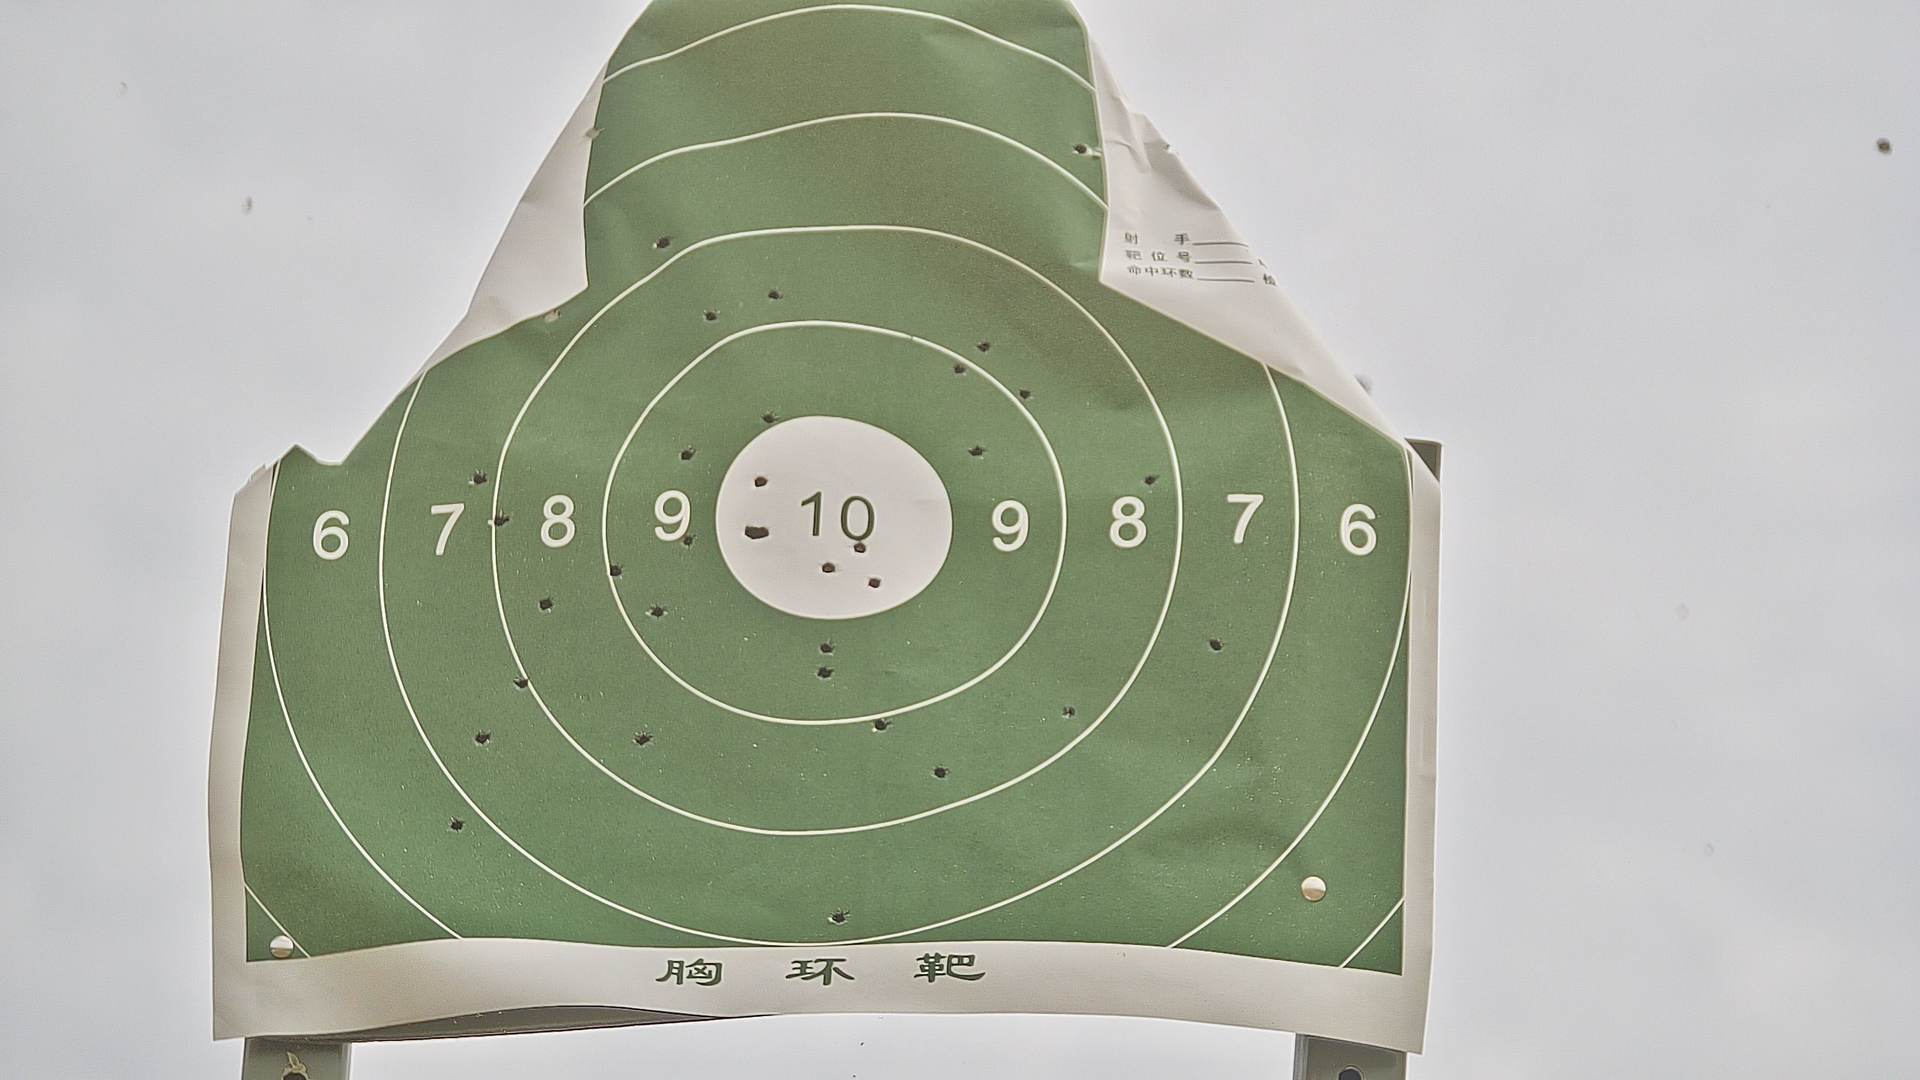hole: (491, 512, 510, 527), (649, 603, 667, 618), (472, 473, 488, 489), (475, 731, 491, 746), (819, 641, 835, 657), (636, 731, 650, 748), (873, 717, 889, 732), (761, 411, 778, 425), (450, 819, 464, 833), (538, 597, 554, 611), (608, 564, 624, 578), (757, 526, 770, 541), (852, 541, 866, 554), (934, 765, 947, 779), (703, 310, 719, 322), (976, 342, 992, 353), (952, 363, 968, 375), (514, 676, 530, 688), (541, 313, 560, 322), (683, 531, 694, 549), (680, 448, 694, 462), (833, 911, 847, 924), (1063, 705, 1076, 719), (1209, 638, 1222, 651), (753, 475, 767, 487), (744, 525, 756, 539), (866, 576, 881, 588), (655, 237, 671, 248), (818, 666, 833, 676), (822, 562, 835, 574), (589, 128, 604, 138), (767, 290, 782, 301), (969, 447, 984, 458), (1075, 144, 1087, 156), (1145, 473, 1156, 484), (1019, 389, 1030, 400)
target: (236, 3, 1411, 980)
ten: (709, 415, 955, 625)
